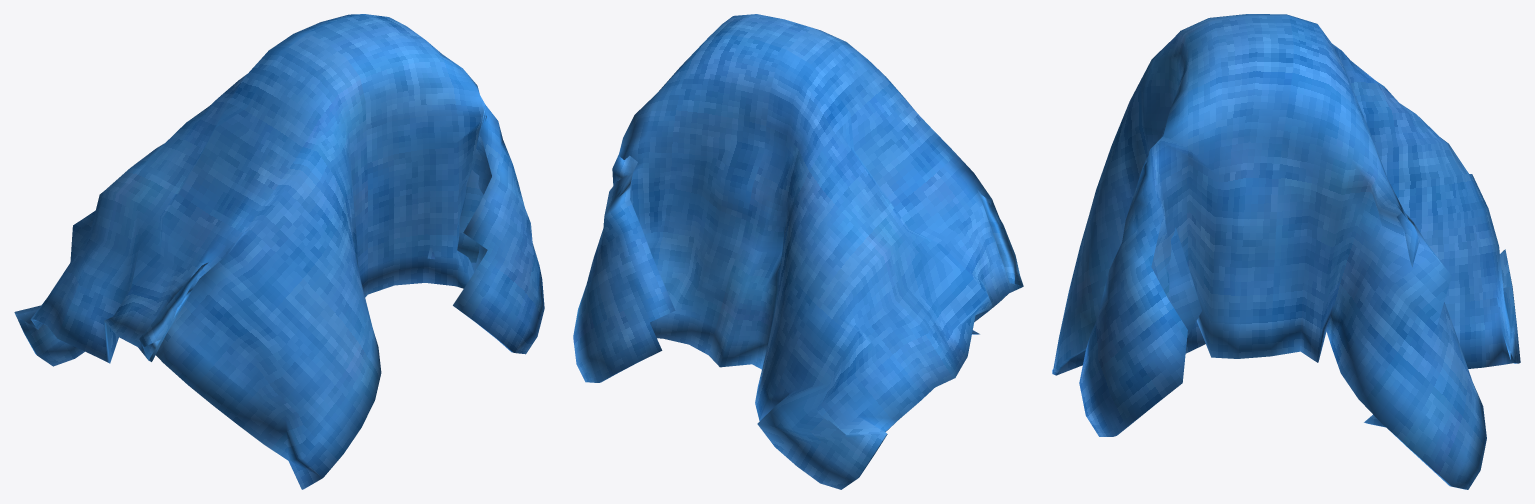
File: computercovered.glb
3 views of the same model, side by side, from view 1: azimuth 30°, elevation 25°; view 2: azimuth 150°, elevation 25°; view 3: azimuth 270°, elevation 25° (orthographic). The views are drawn at different scales.
Parts seen in each view (by area): view 1: Plane.020; view 2: Plane.020; view 3: Plane.020.
Part boxes in pixels (box(x1,y1,x2,y2)): Plane.020: box(14, 14, 544, 489); Plane.020: box(573, 14, 1023, 489); Plane.020: box(1052, 14, 1520, 489).
Size of the model in its own units: 2.04 by 1.84 by 1.81.
Materials: 7 (3 with a texture image).
